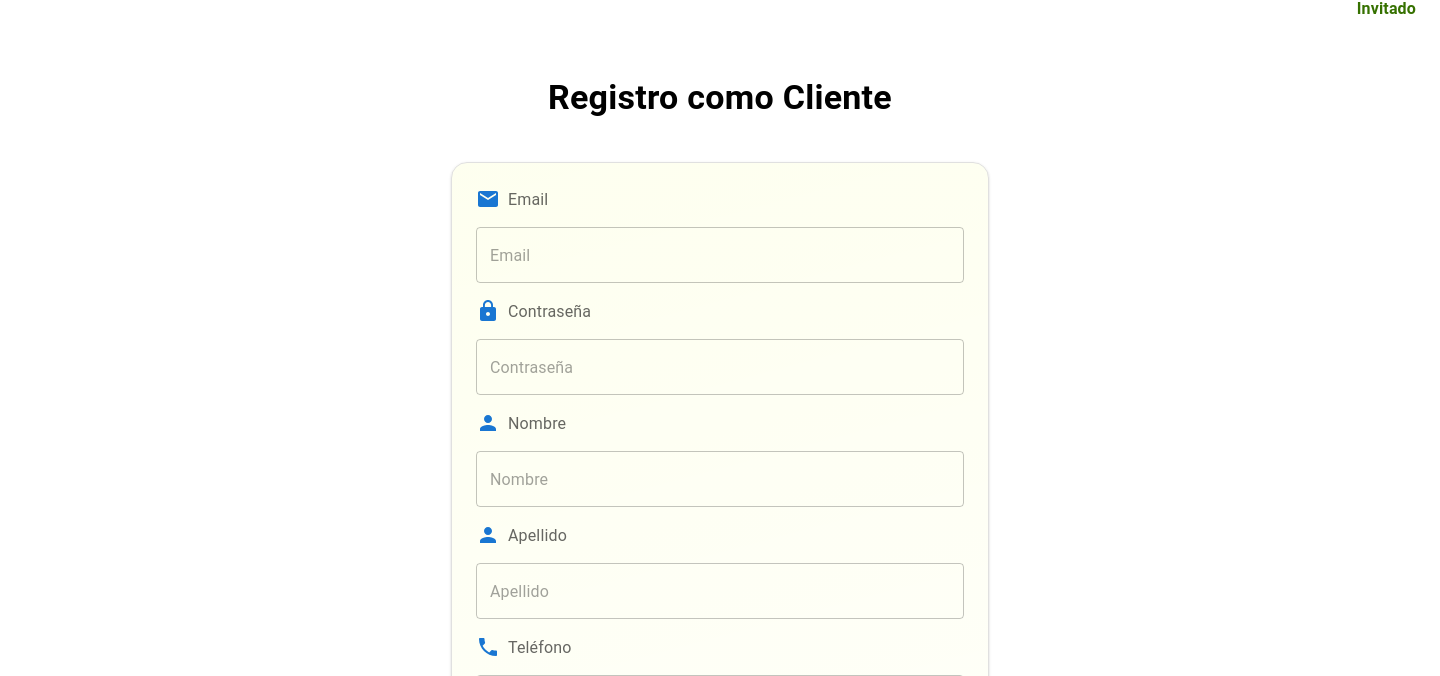
Test case: RegisterCliente › muestra mensaje de éxito y botón para iniciar sesión si el registro es exitoso
The width and height of the screenshot is (1440, 676).
Type "test@example.com" into the field with placeholder "Email" at (720, 255), box [476,227,964,283]
Type "123456" into the password field with placeholder "Contraseña" at (720, 367), box [476,339,964,395]
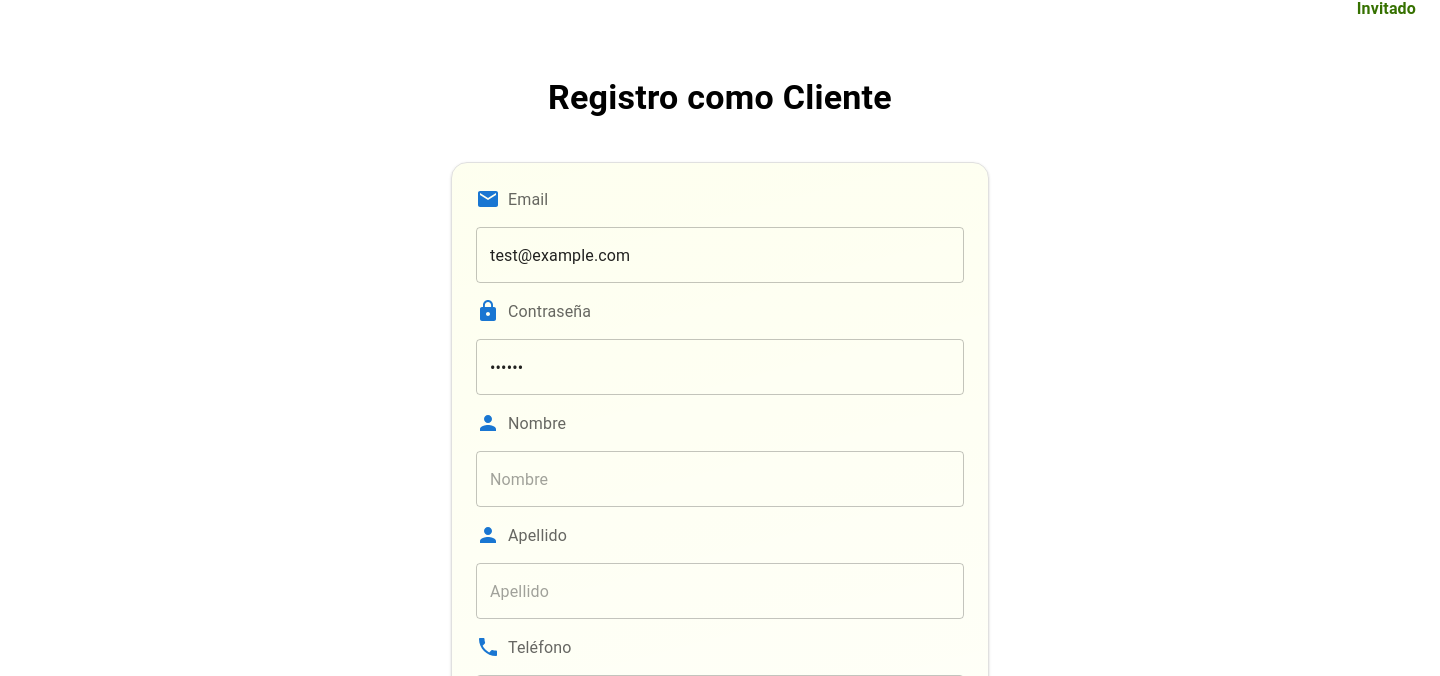
Type "Juan" into the field with placeholder "Nombre" at (720, 479), box [476,451,964,507]
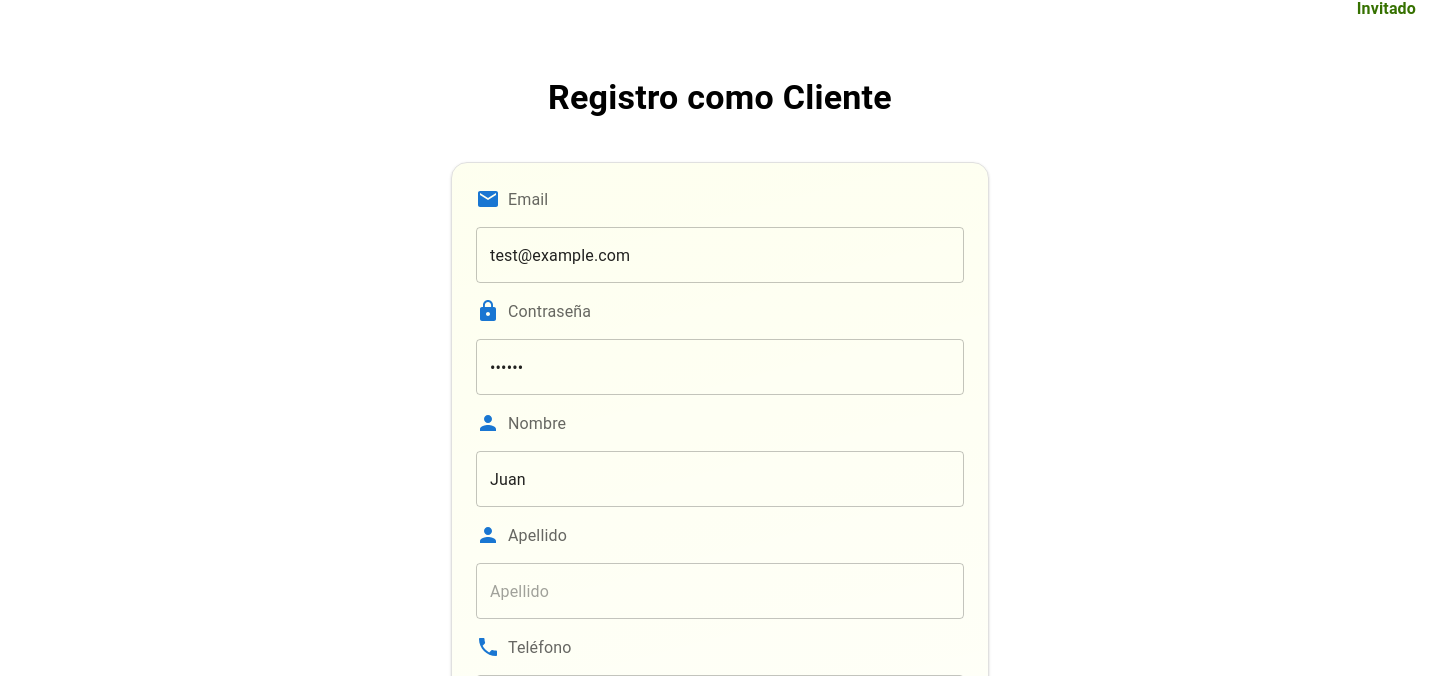
Type "Pérez" into the field with placeholder "Apellido" at (720, 591), box [476,563,964,619]
(page scrolled)
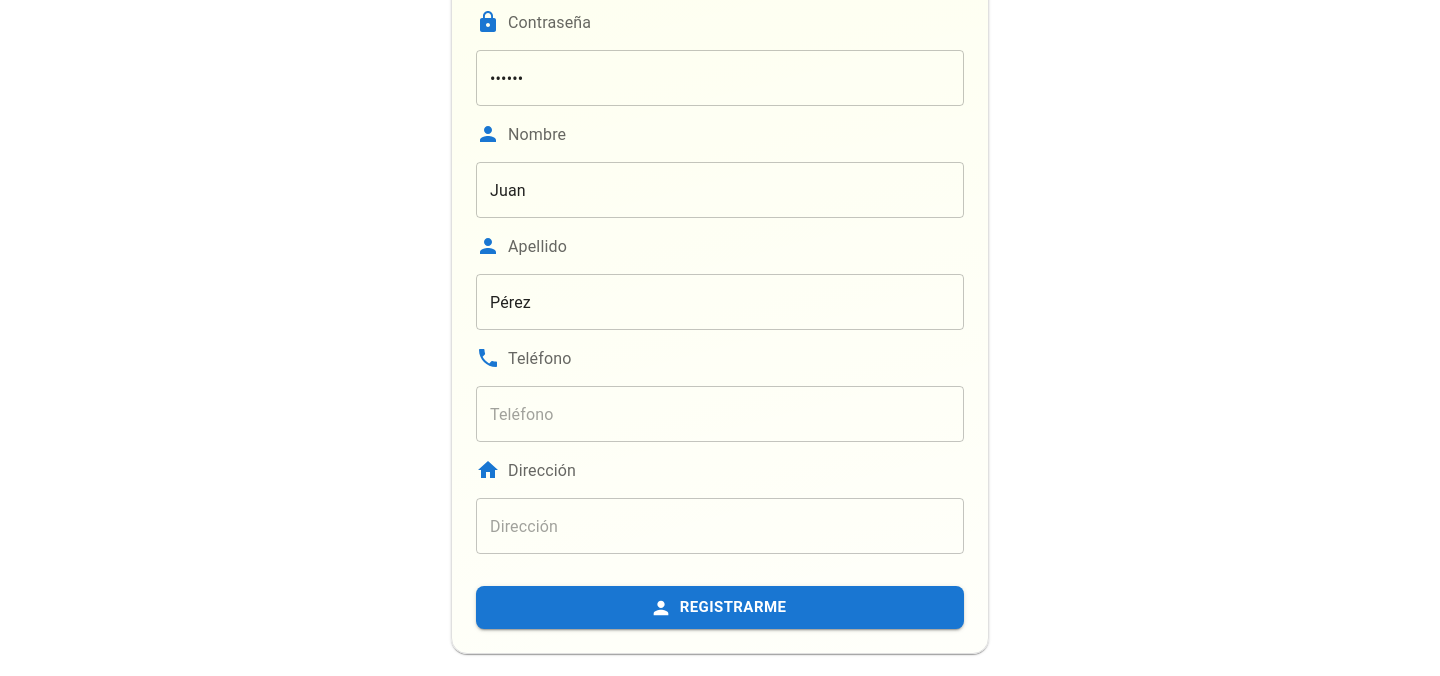
Type "123456789" into the field with placeholder "Teléfono" at (720, 414), box [476,386,964,442]
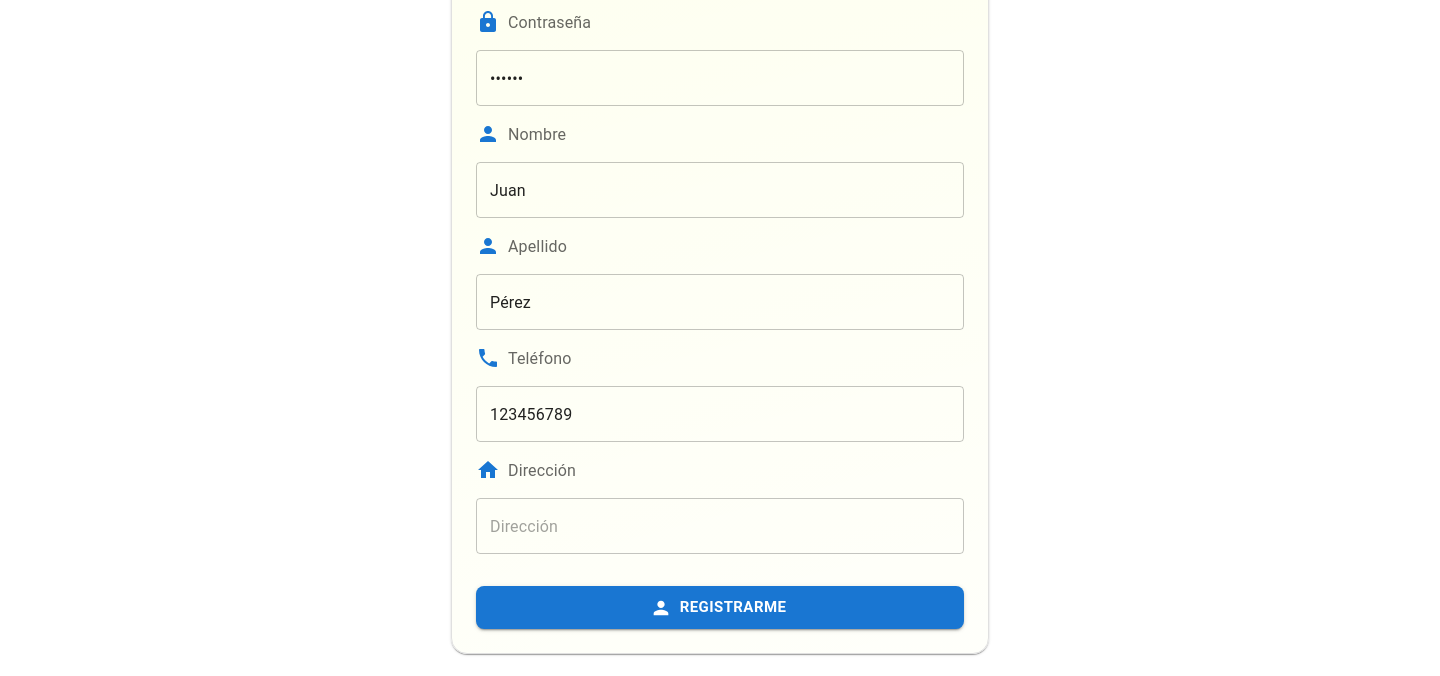
Type "Calle Falsa 123" into the field with placeholder "Dirección" at (720, 526), box [476,498,964,554]
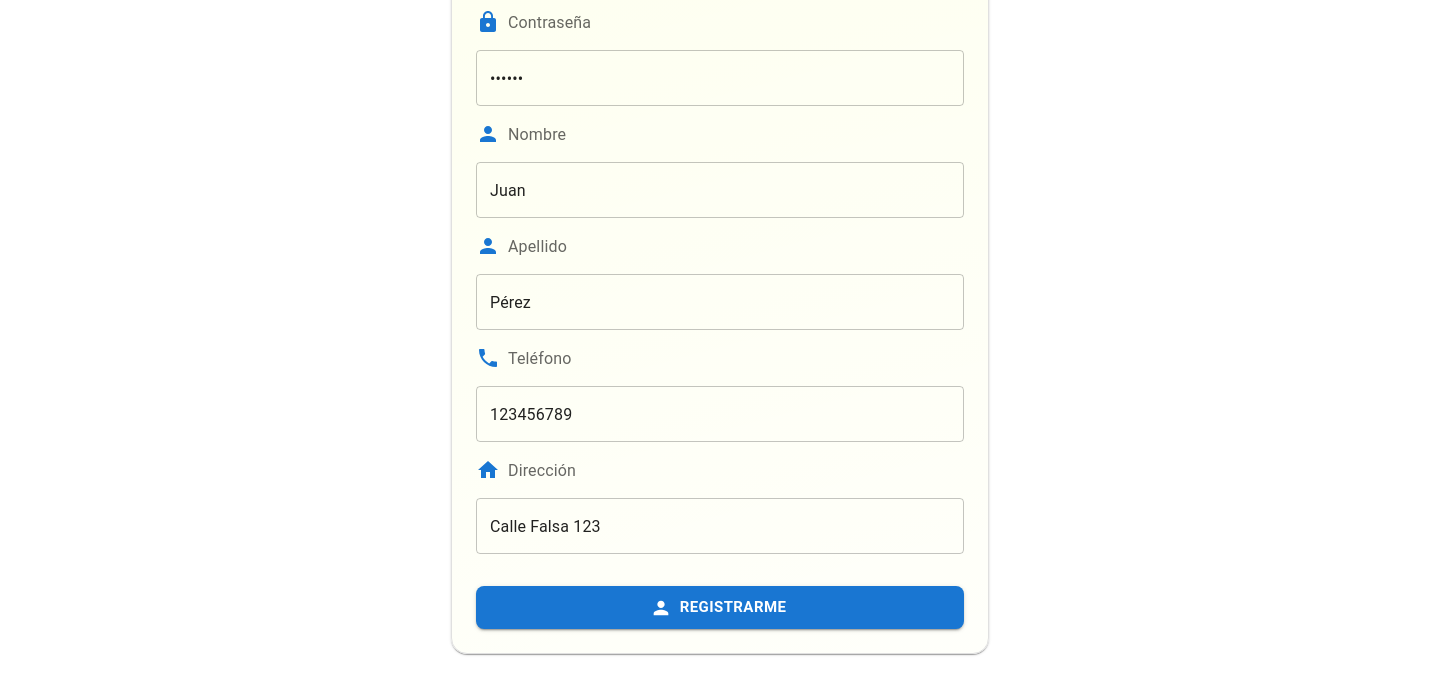
Click the button "Registrarme" at (720, 608), box [476,586,964,629]
(page scrolled)
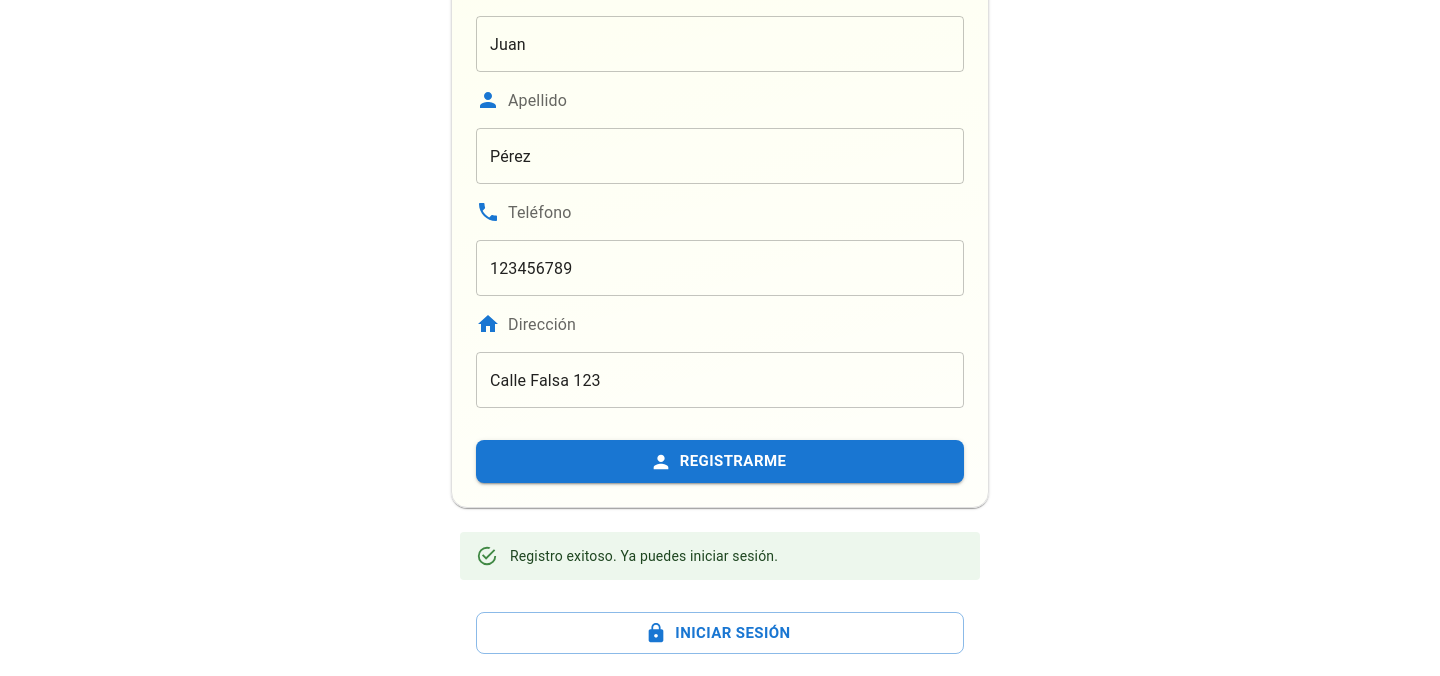
Check: the text "Registro exitoso. Ya puedes iniciar sesión." is shown, box [510,548,778,564]
Check: the button "Iniciar Sesión" is shown, box [476,612,964,654]
